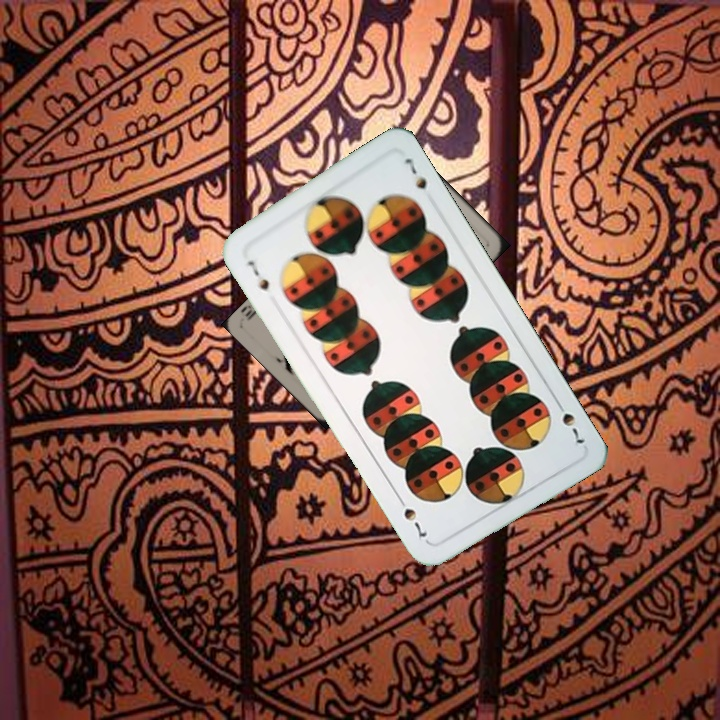S7: (551, 395, 588, 449), (243, 256, 273, 297)
